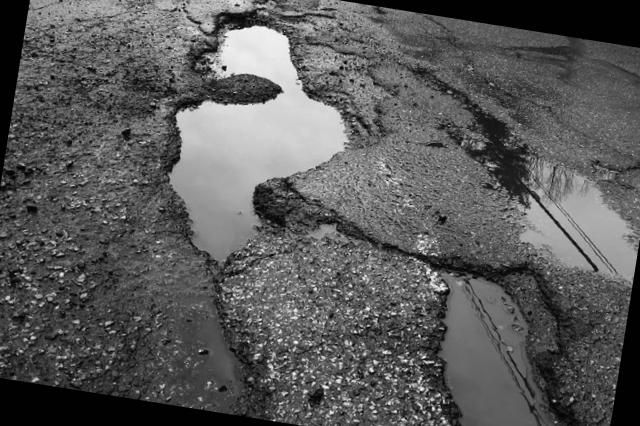Pothole: (124, 0, 383, 276), (408, 79, 640, 286), (369, 251, 612, 426)
